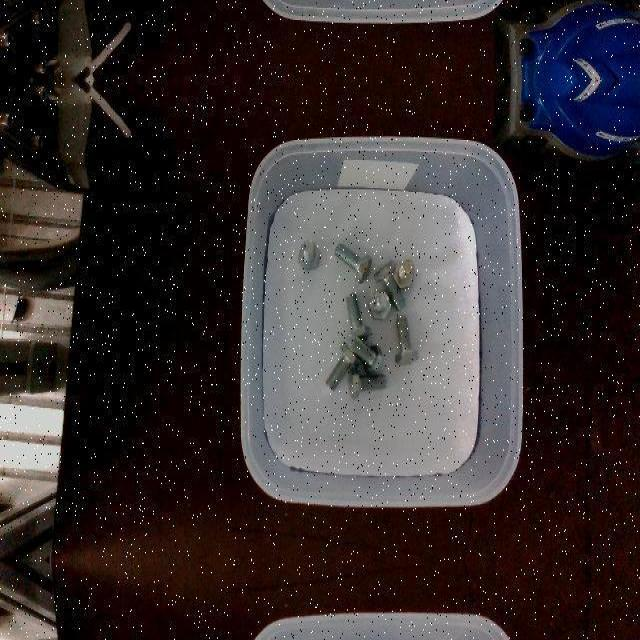screw: (325, 341, 359, 391), (374, 260, 407, 310), (334, 241, 372, 283), (346, 334, 382, 374), (348, 366, 386, 400), (395, 313, 418, 363), (298, 239, 320, 271), (369, 291, 392, 317), (394, 260, 415, 286)
